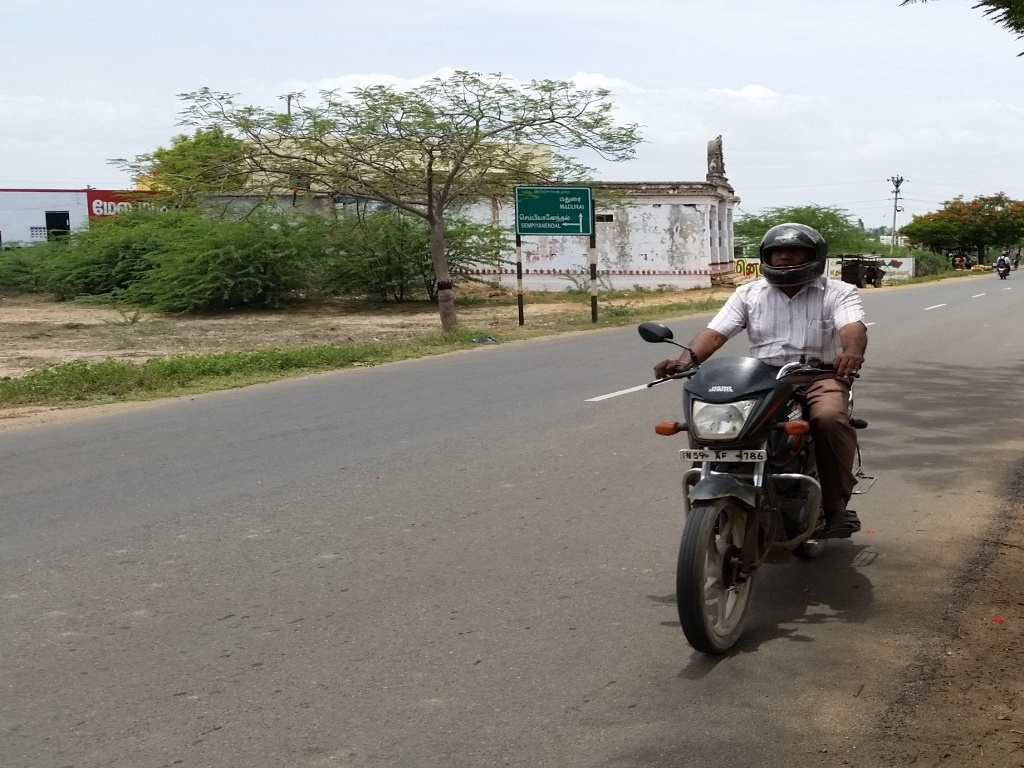biker: (624, 177, 918, 676)
helmet: (746, 209, 844, 307)
